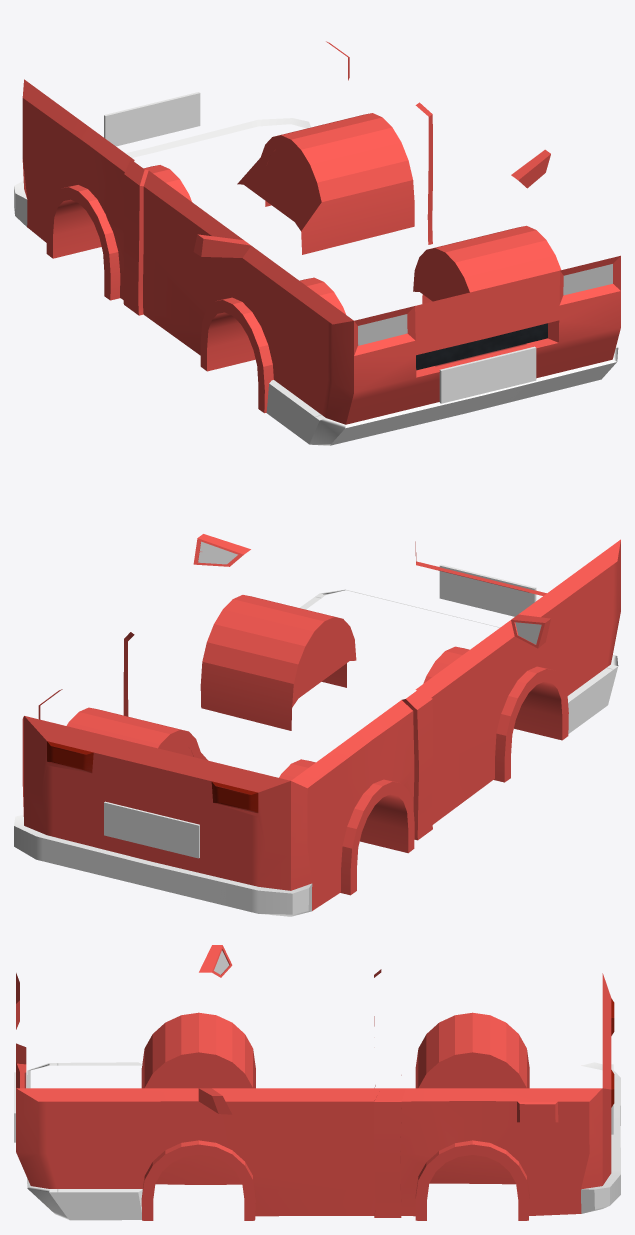
Rendered from CLASSIC-BOTTOM-YJrzCFqJ.glb.
3 renders of one model, top to bottom at view 1: azimuth 30°, elevation 25°; view 2: azimuth 150°, elevation 25°; view 3: azimuth 270°, elevation 25°, orthographic. The views are drawn at different scales.
Size of the model in its own units: 1.95 by 0.818 by 3.33.
Materials: 2 (2 with a texture image).
